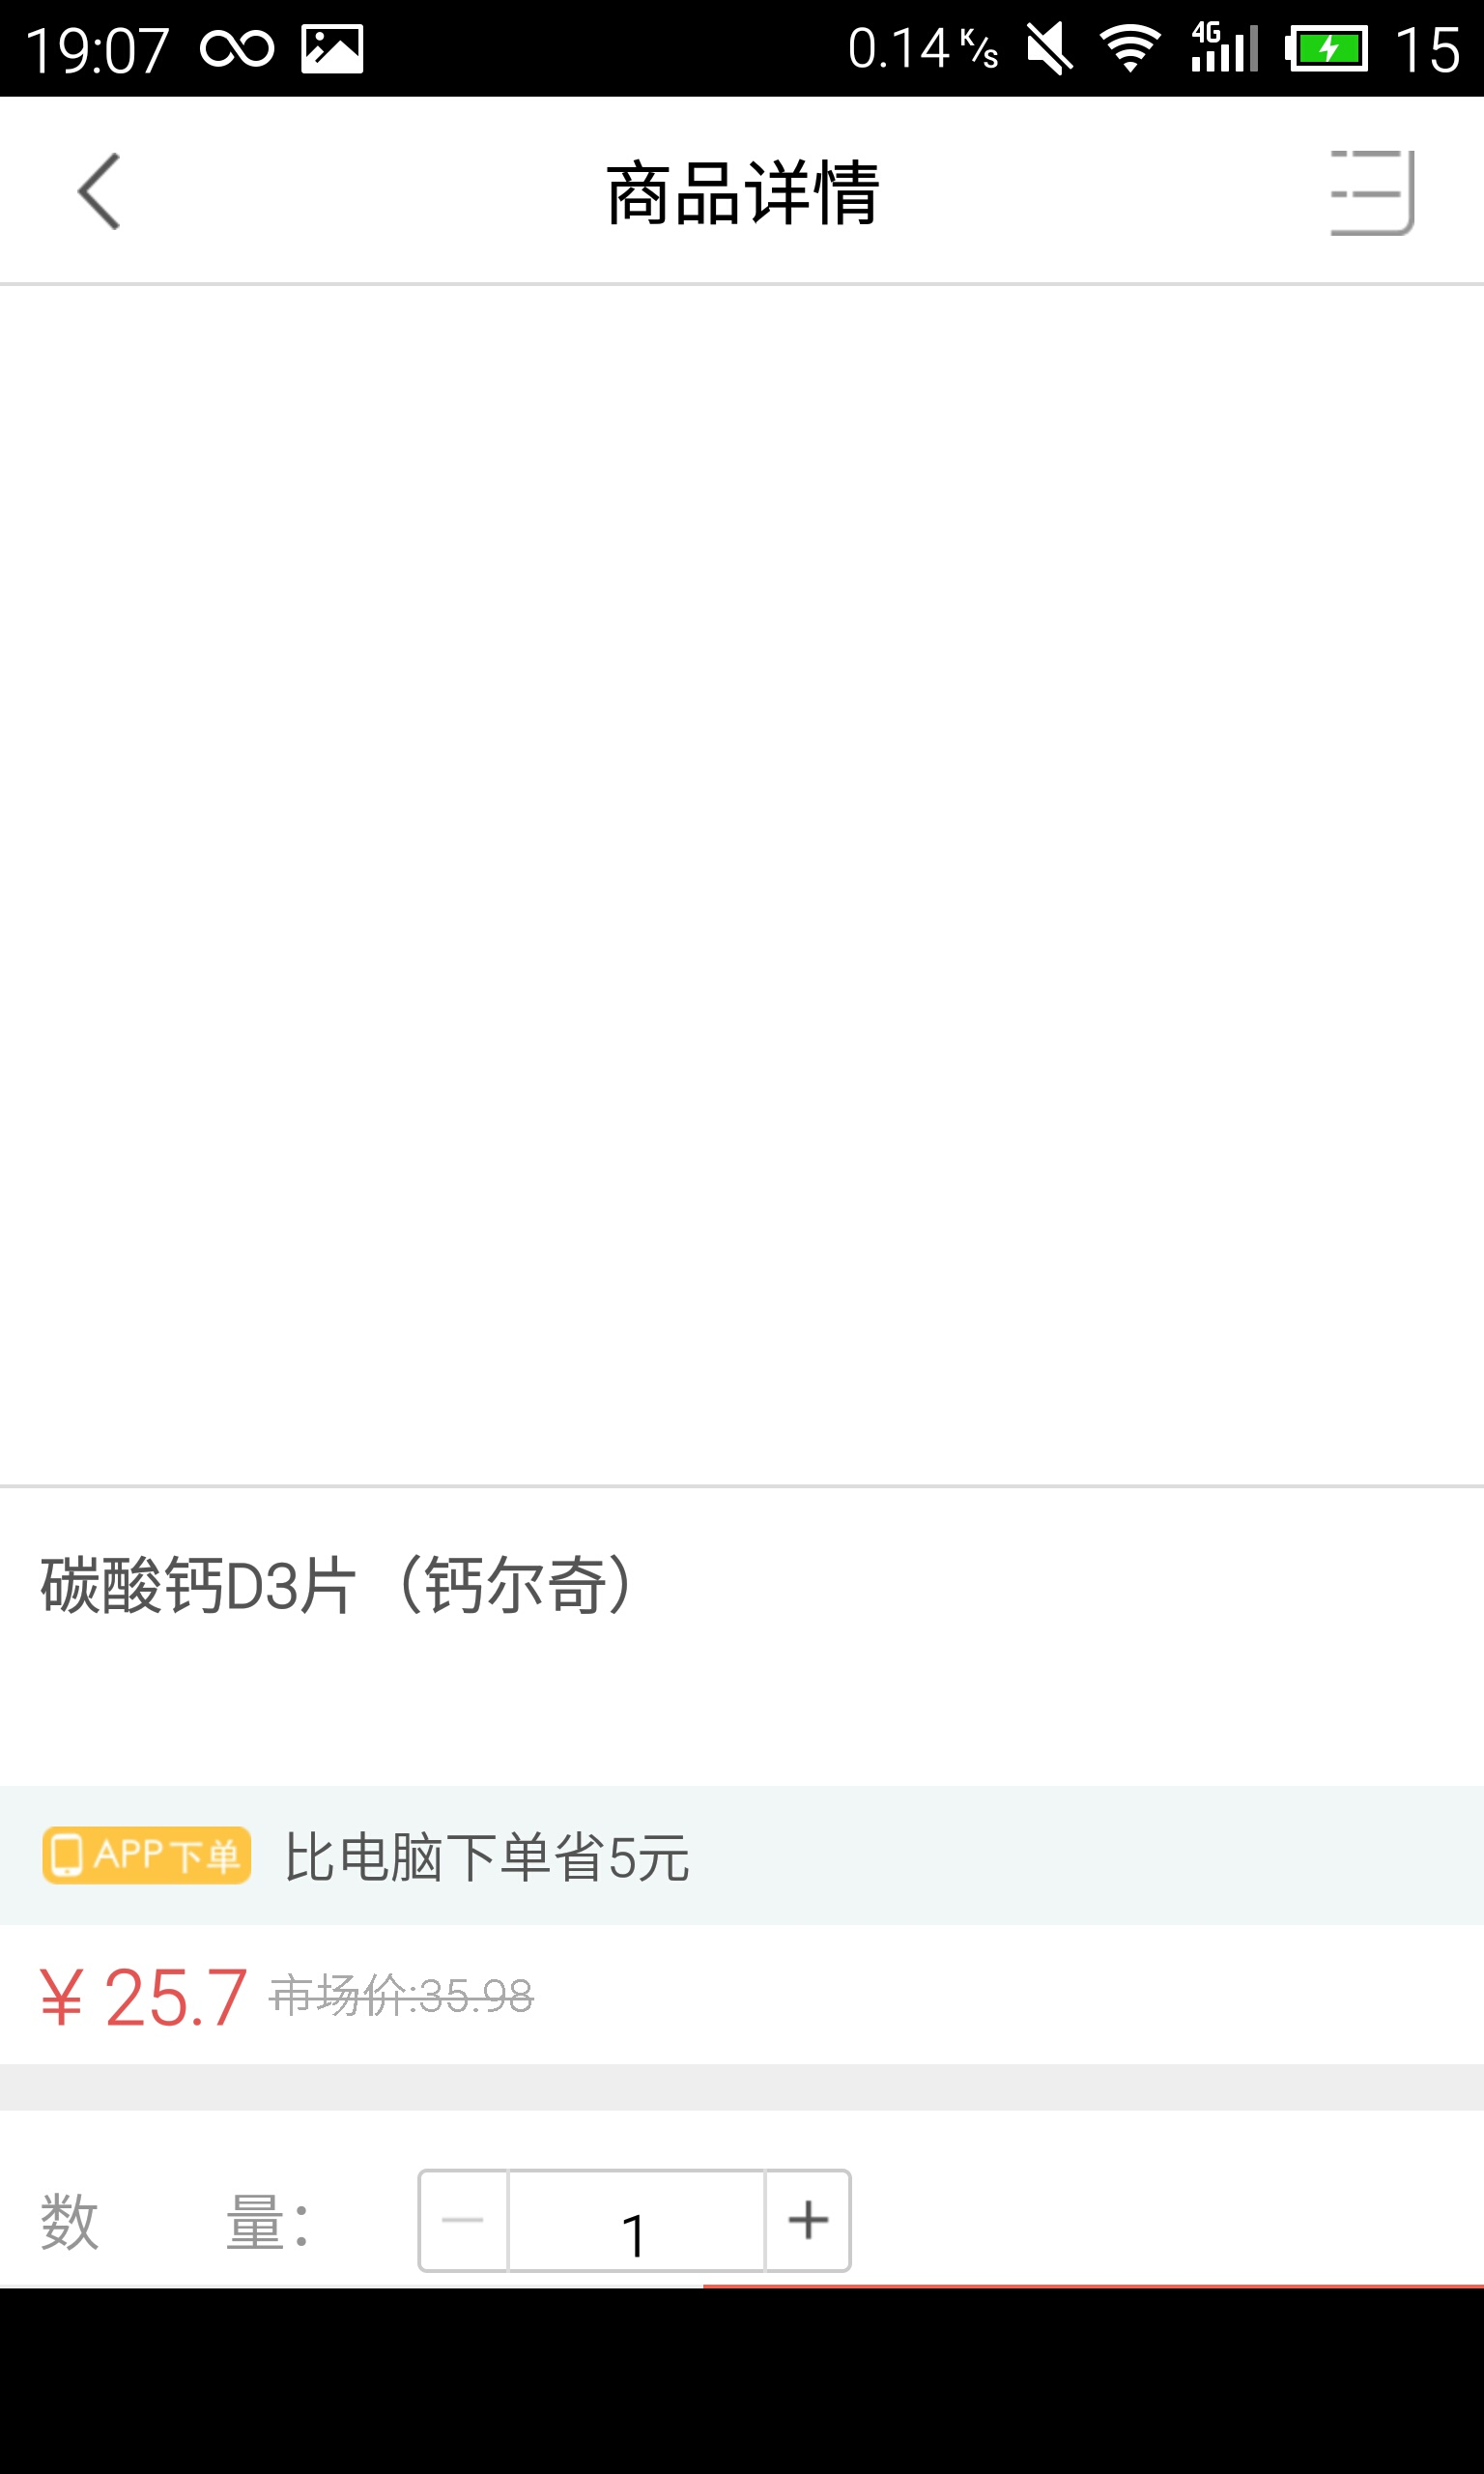checkboxs: (385, 2156, 919, 2273)
imgbutton: (53, 136, 164, 254)
textview: (12, 1472, 1457, 1765), (14, 118, 1468, 300), (25, 1811, 1484, 1953), (19, 1947, 1461, 2069)
